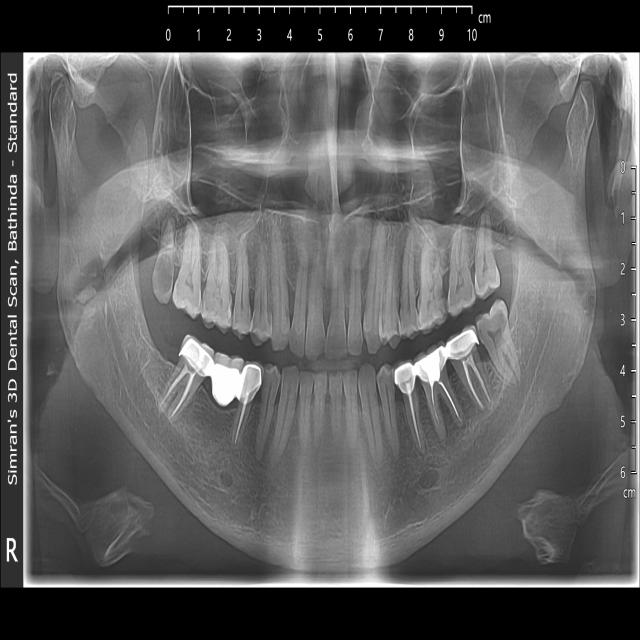Caries: (477, 299, 510, 346), (419, 277, 443, 331), (154, 254, 174, 295)
Crown: (180, 336, 263, 406)
Filling: (412, 346, 448, 386), (448, 329, 478, 359), (394, 362, 416, 398)
Missing teeth: (191, 382, 237, 445)
Periapical lesion: (160, 203, 177, 236)
Root Canal Treatment: (412, 341, 464, 443), (156, 337, 213, 426), (445, 328, 494, 414), (392, 361, 424, 452), (231, 363, 263, 448)
